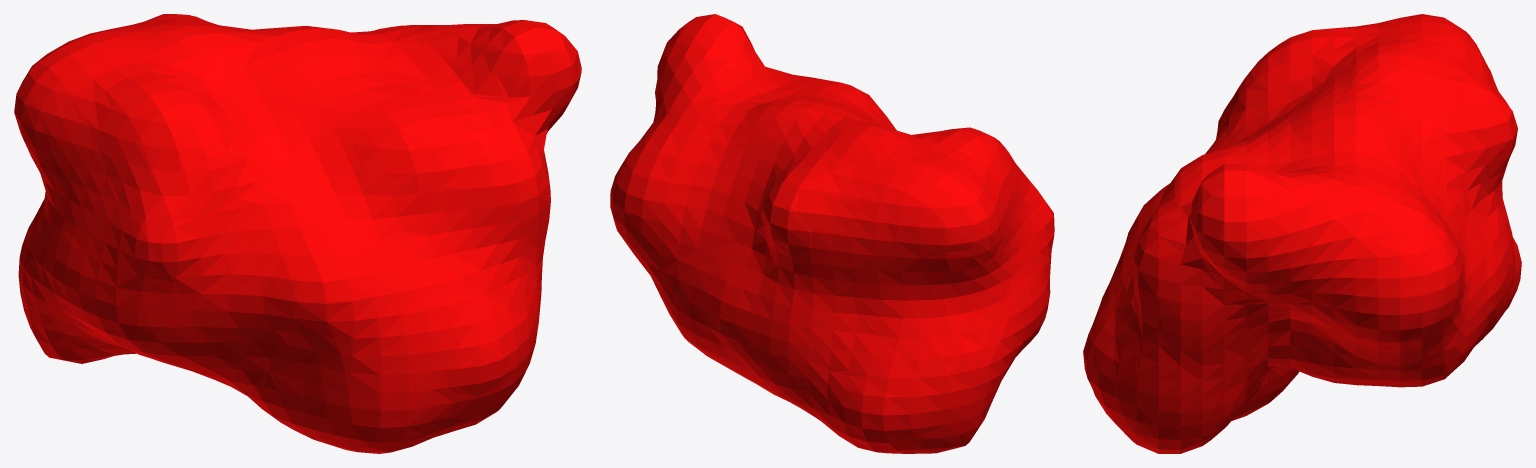
Rendered from dinI_coarse.dae.
3 views of the same model, side by side, from view 1: azimuth 30°, elevation 25°; view 2: azimuth 150°, elevation 25°; view 3: azimuth 270°, elevation 25° (orthographic). The views are drawn at different scales.
Visible parts, largest first — view 1: dinI; view 2: dinI; view 3: dinI.
Part boxes in pixels (left/top/right/bottom): dinI: left=14, top=14, right=581, bottom=453; dinI: left=610, top=14, right=1054, bottom=453; dinI: left=1083, top=14, right=1521, bottom=453.
Size of the model in its own units: 39.12 by 28.95 by 33.78.
